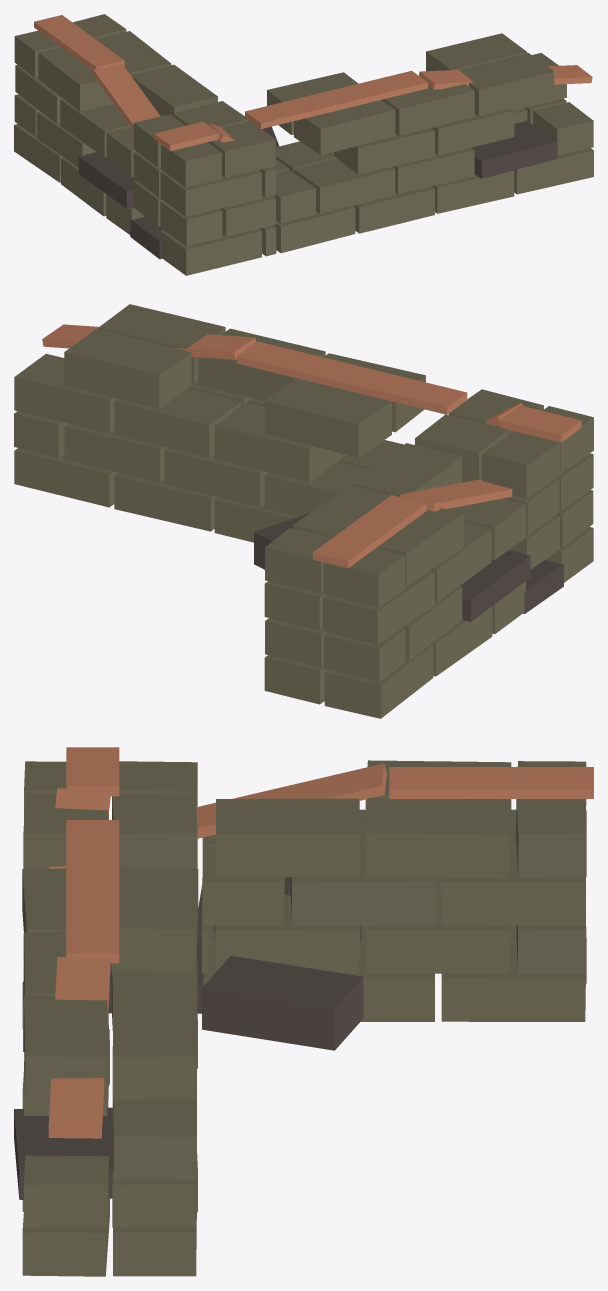
File: SM_PretilEsquinaPaso_v3_Tablon_e1_Danado_LOD0.fbx
The picture shows the model from 3 angles, top to bottom: view 1: azimuth 30°, elevation 25°; view 2: azimuth 150°, elevation 25°; view 3: azimuth 270°, elevation 25°; orthographic projection. The views are drawn at different scales.
Parts seen in each view (by area): view 1: SM_pretil_azotea_v53_LOD0; view 2: SM_pretil_azotea_v53_LOD0; view 3: SM_pretil_azotea_v53_LOD0.
Boxes of the visible parts, x1,y1,x2,y2 form: SM_pretil_azotea_v53_LOD0: (14,14,593,275); SM_pretil_azotea_v53_LOD0: (14,304,593,718); SM_pretil_azotea_v53_LOD0: (14,747,593,1276).
Size of the model in its own units: 4.49 by 1.26 by 3.27.
